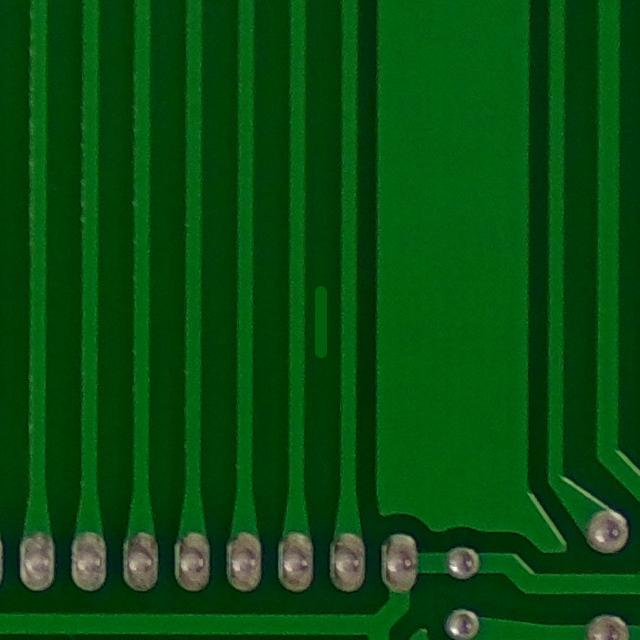spurious_copper: (295, 268, 346, 372)
